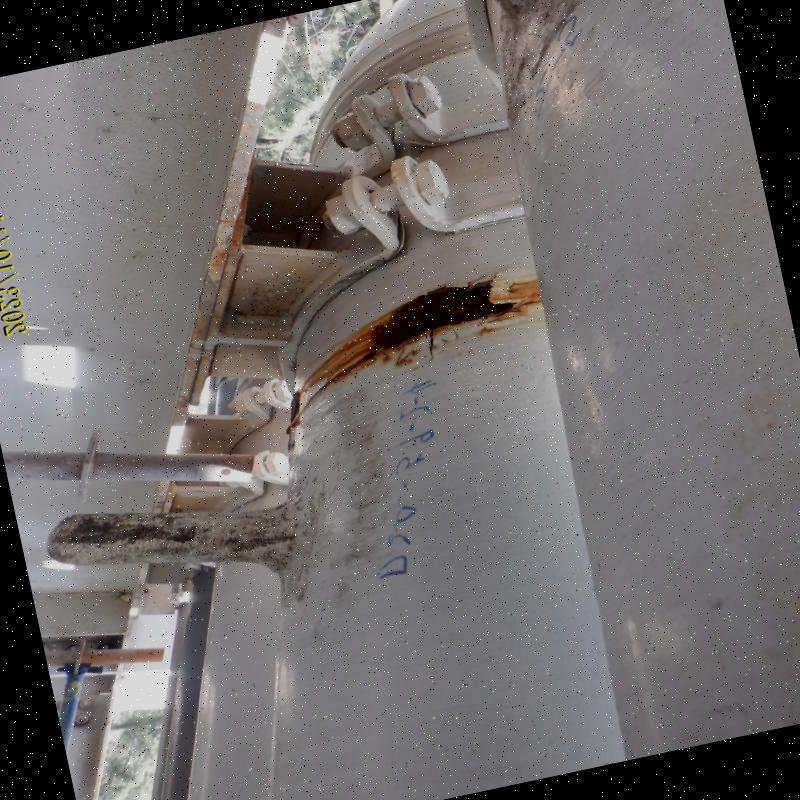corrosion: (316, 270, 570, 365)
